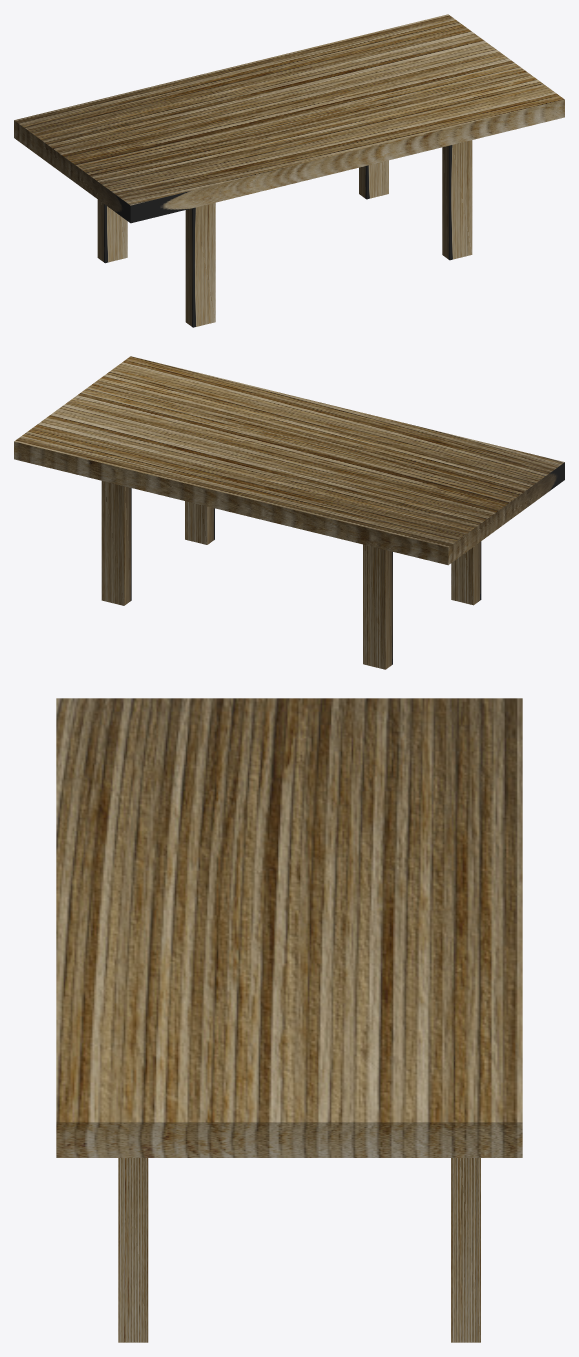
File: Wood Table.fbx
3 views of the same model, one above another, from view 1: azimuth 30°, elevation 25°; view 2: azimuth 150°, elevation 25°; view 3: azimuth 270°, elevation 25° (orthographic). The views are drawn at different scales.
Parts seen in each view (by area): view 1: Cube.004, Cube, Cube.003, Cube.001, Cube.002; view 2: Cube.004, Cube.002, Cube.001, Cube, Cube.003; view 3: Cube.004, Cube.003, Cube.002.
Part boxes in pixels (x1=…): Cube.004: x1=14, y1=14, x2=564, y2=223; Cube: x1=185, y1=202, x2=215, y2=327; Cube.003: x1=442, y1=140, x2=472, y2=260; Cube.001: x1=97, y1=199, x2=127, y2=263; Cube.002: x1=359, y1=160, x2=388, y2=199; Cube.004: x1=14, y1=356, x2=564, y2=565; Cube.002: x1=101, y1=481, x2=131, y2=605; Cube.001: x1=363, y1=544, x2=392, y2=669; Cube: x1=451, y1=541, x2=481, y2=605; Cube.003: x1=185, y1=501, x2=214, y2=544; Cube.004: x1=56, y1=698, x2=522, y2=1157; Cube.003: x1=118, y1=1158, x2=148, y2=1342; Cube.002: x1=451, y1=1158, x2=480, y2=1342.
Bounding box in the file's own units: 698 × 227 × 325.
